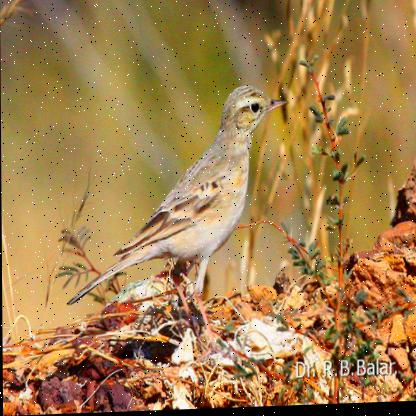Burung: (67, 82, 288, 321)
